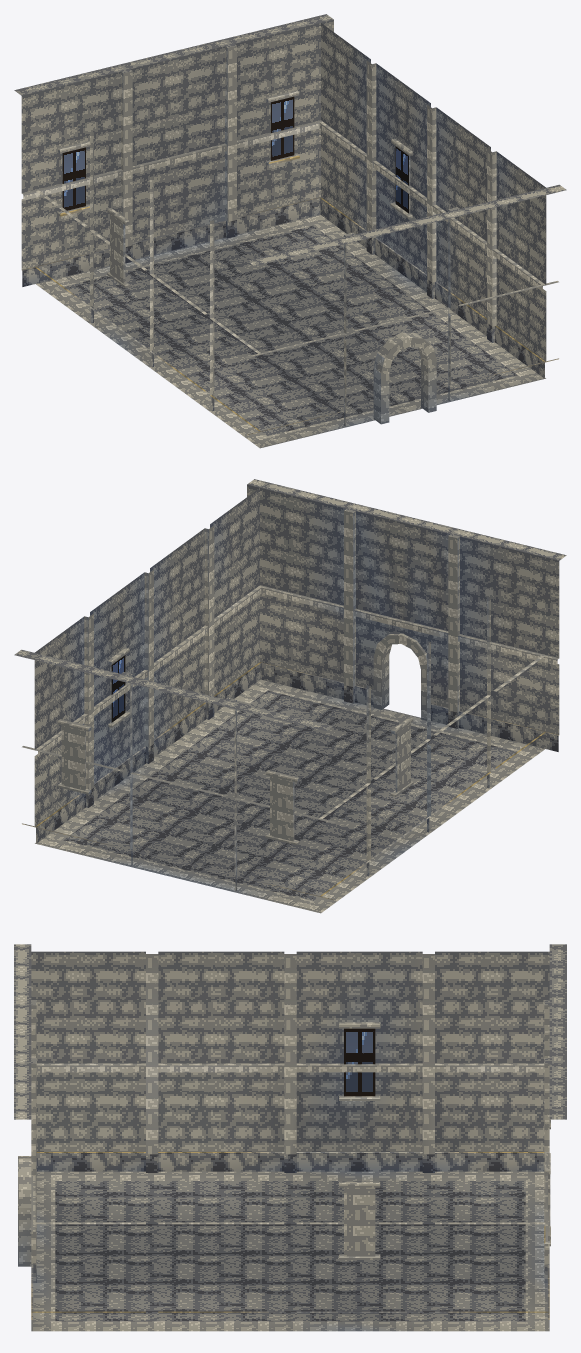
Rendered from cst.hall__throne.glb.
The picture shows the model from 3 angles, top to bottom: view 1: azimuth 30°, elevation 25°; view 2: azimuth 150°, elevation 25°; view 3: azimuth 270°, elevation 25°; orthographic projection. The views are drawn at different scales.
Visible parts, largest first — view 1: kit_shell_walls, kit_shell_floor, kit_fittings; view 2: kit_shell_walls, kit_shell_floor, kit_fittings; view 3: kit_shell_walls, kit_shell_floor, kit_fittings.
Part boxes in pixels (x1,y1,x2,y2): kit_shell_walls: [14, 14, 566, 434]; kit_shell_floor: [36, 214, 545, 448]; kit_fittings: [58, 90, 436, 424]; kit_shell_walls: [14, 479, 566, 899]; kit_shell_floor: [35, 679, 544, 913]; kit_fittings: [57, 633, 426, 845]; kit_shell_walls: [14, 944, 566, 1319]; kit_shell_floor: [31, 1171, 549, 1331]; kit_fittings: [18, 1022, 550, 1266].
Bounding box in the file's own units: 12 × 7 × 16.
5 materials, 5 textured.
